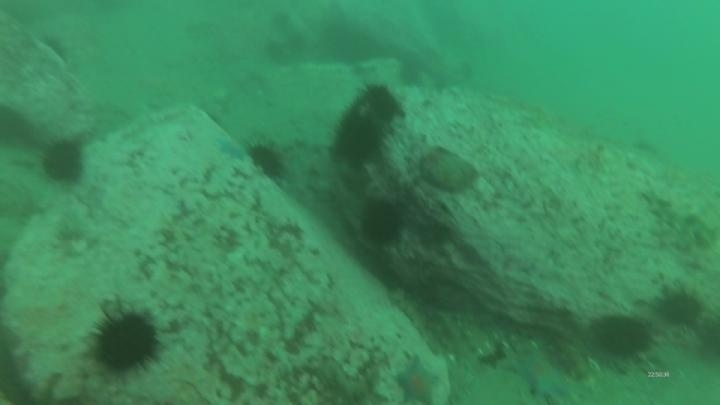echinus: (88, 307, 163, 377), (590, 313, 654, 361), (331, 113, 384, 166), (358, 198, 405, 247), (39, 138, 86, 186), (656, 288, 705, 329), (359, 83, 403, 124), (246, 141, 288, 182), (1, 102, 32, 148), (37, 32, 73, 68)
holothurian: (639, 182, 717, 244)
starfish: (504, 345, 575, 403), (392, 355, 441, 405), (214, 133, 250, 163)
